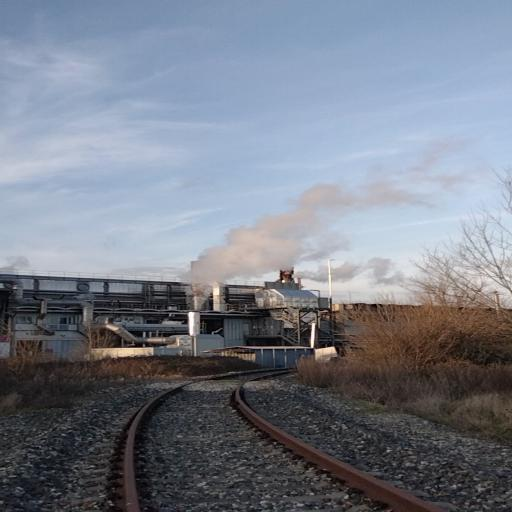leakage: (172, 138, 494, 317), (265, 256, 437, 293)
